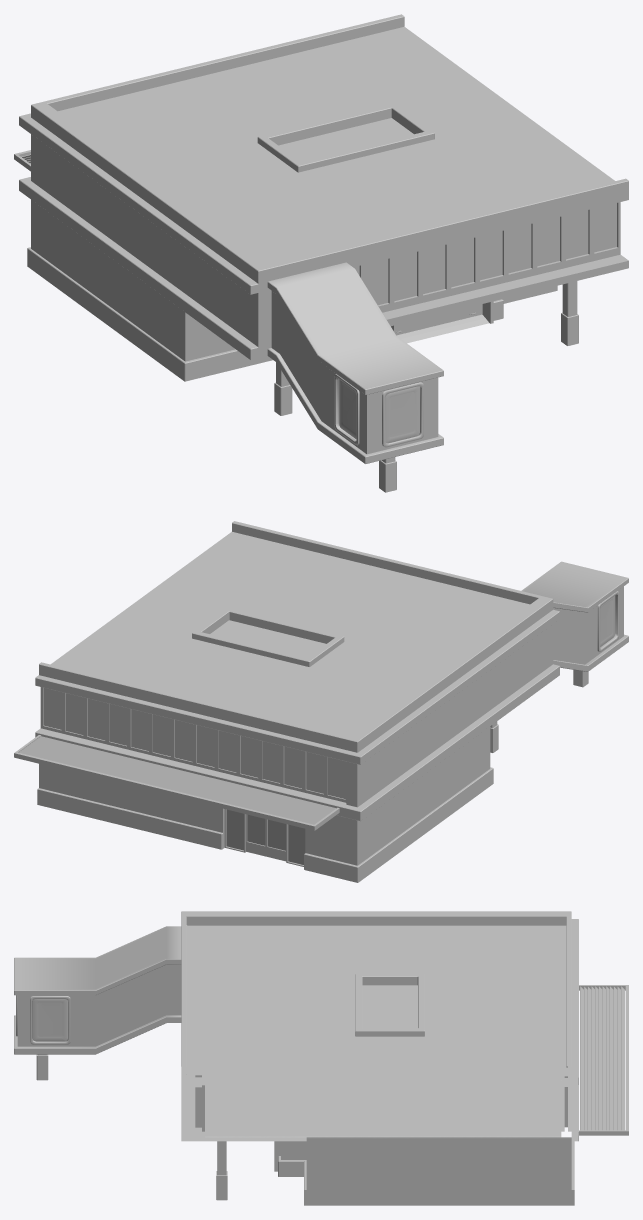
File: Airport.fbx
3 renders of one model, top to bottom at view 1: azimuth 30°, elevation 25°; view 2: azimuth 150°, elevation 25°; view 3: azimuth 270°, elevation 25°, orthographic. The views are drawn at different scales.
Parts seen in each view (by area): view 1: Airport, CloseWall, Door2, Door3; view 2: Airport, CloseWall, Door_02, Door_01, Door3; view 3: Airport, CloseWall, Door1.
Boxes of the visible parts, x1=… form: Airport: x1=14, y1=14, x2=628, y2=492; CloseWall: x1=19, y1=101, x2=271, y2=381; Door2: x1=385, y1=386, x2=419, y2=443; Door3: x1=339, y1=379, x2=356, y2=439; Airport: x1=14, y1=521, x2=628, y2=879; CloseWall: x1=342, y1=596, x2=559, y2=882; Door_02: x1=246, y1=814, x2=266, y2=856; Door_01: x1=266, y1=819, x2=286, y2=861; Door3: x1=600, y1=596, x2=614, y2=646; Airport: x1=14, y1=916, x2=628, y2=1205; CloseWall: x1=181, y1=911, x2=578, y2=927; Door1: x1=32, y1=999, x2=67, y2=1041.
Bounding box in the file's own units: 24.46 × 10.52 × 40.12.
